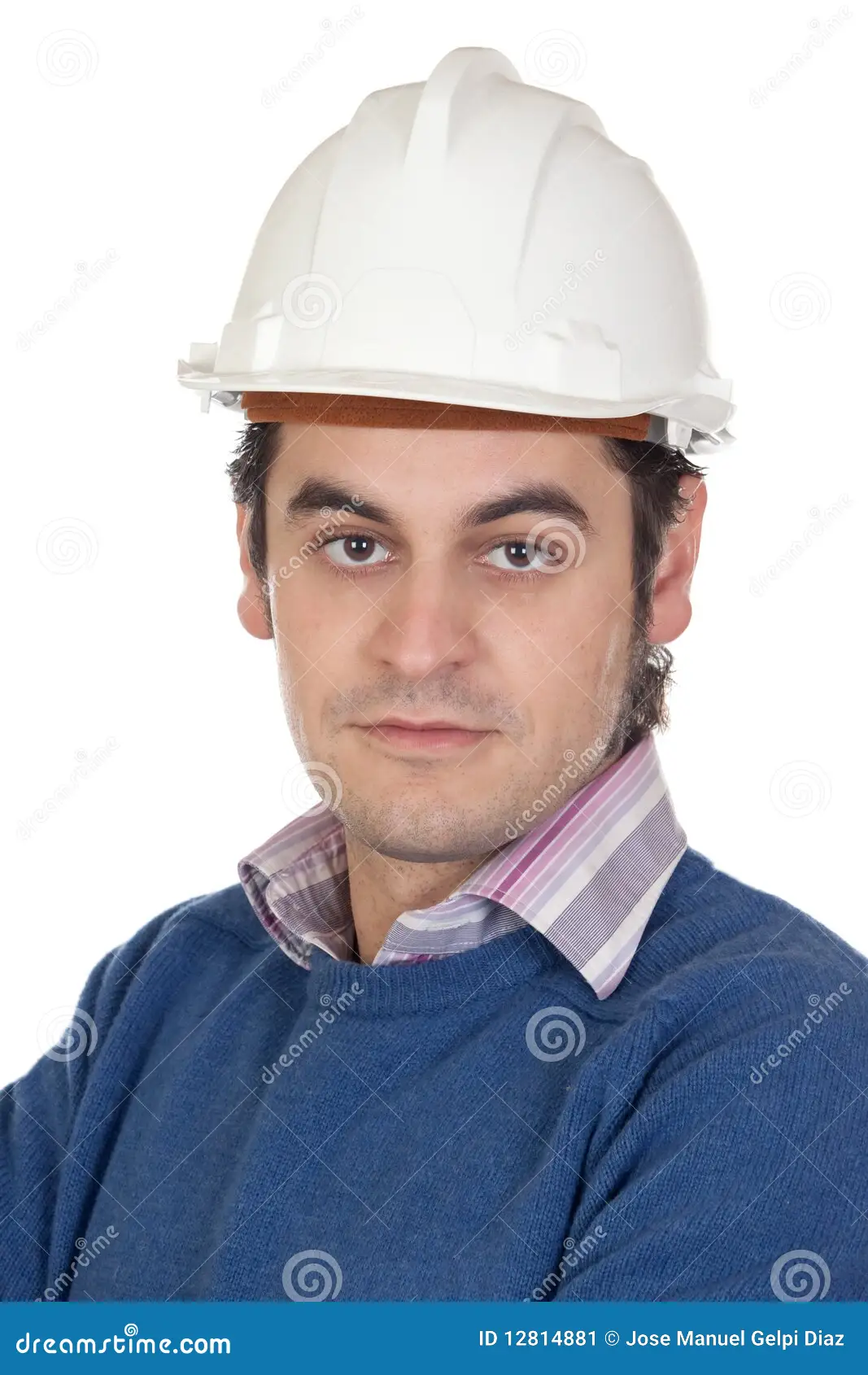Casco de seguridad: (179, 48, 735, 452)
